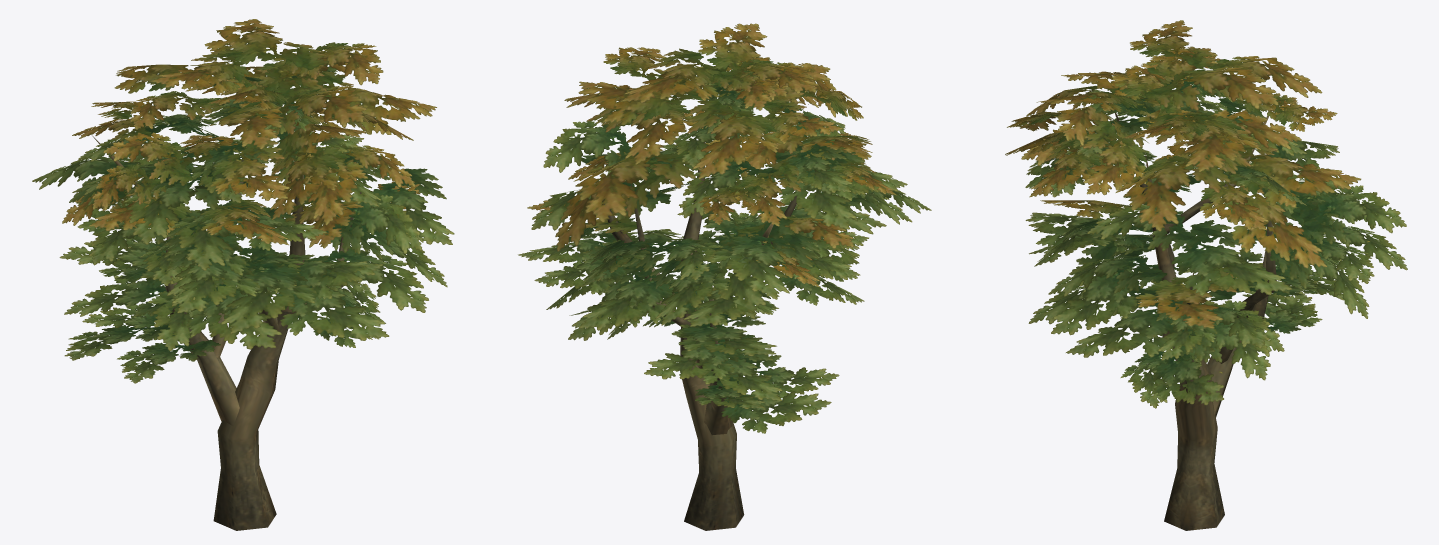
The model's file is plant_city_tree_dashu.FBX.
3 views of the same model, side by side, from view 1: azimuth 30°, elevation 25°; view 2: azimuth 150°, elevation 25°; view 3: azimuth 270°, elevation 25° (orthographic). The views are drawn at different scales.
Parts seen in each view (by area): view 1: plant_city_tree_dashu; view 2: plant_city_tree_dashu; view 3: plant_city_tree_dashu.
Part boxes in pixels (x1,y1,x2,y2): plant_city_tree_dashu: (32, 19, 454, 530); plant_city_tree_dashu: (518, 23, 931, 530); plant_city_tree_dashu: (1005, 20, 1407, 530).
Bounding box in the file's own units: 5.21 × 5.42 × 6.08.
